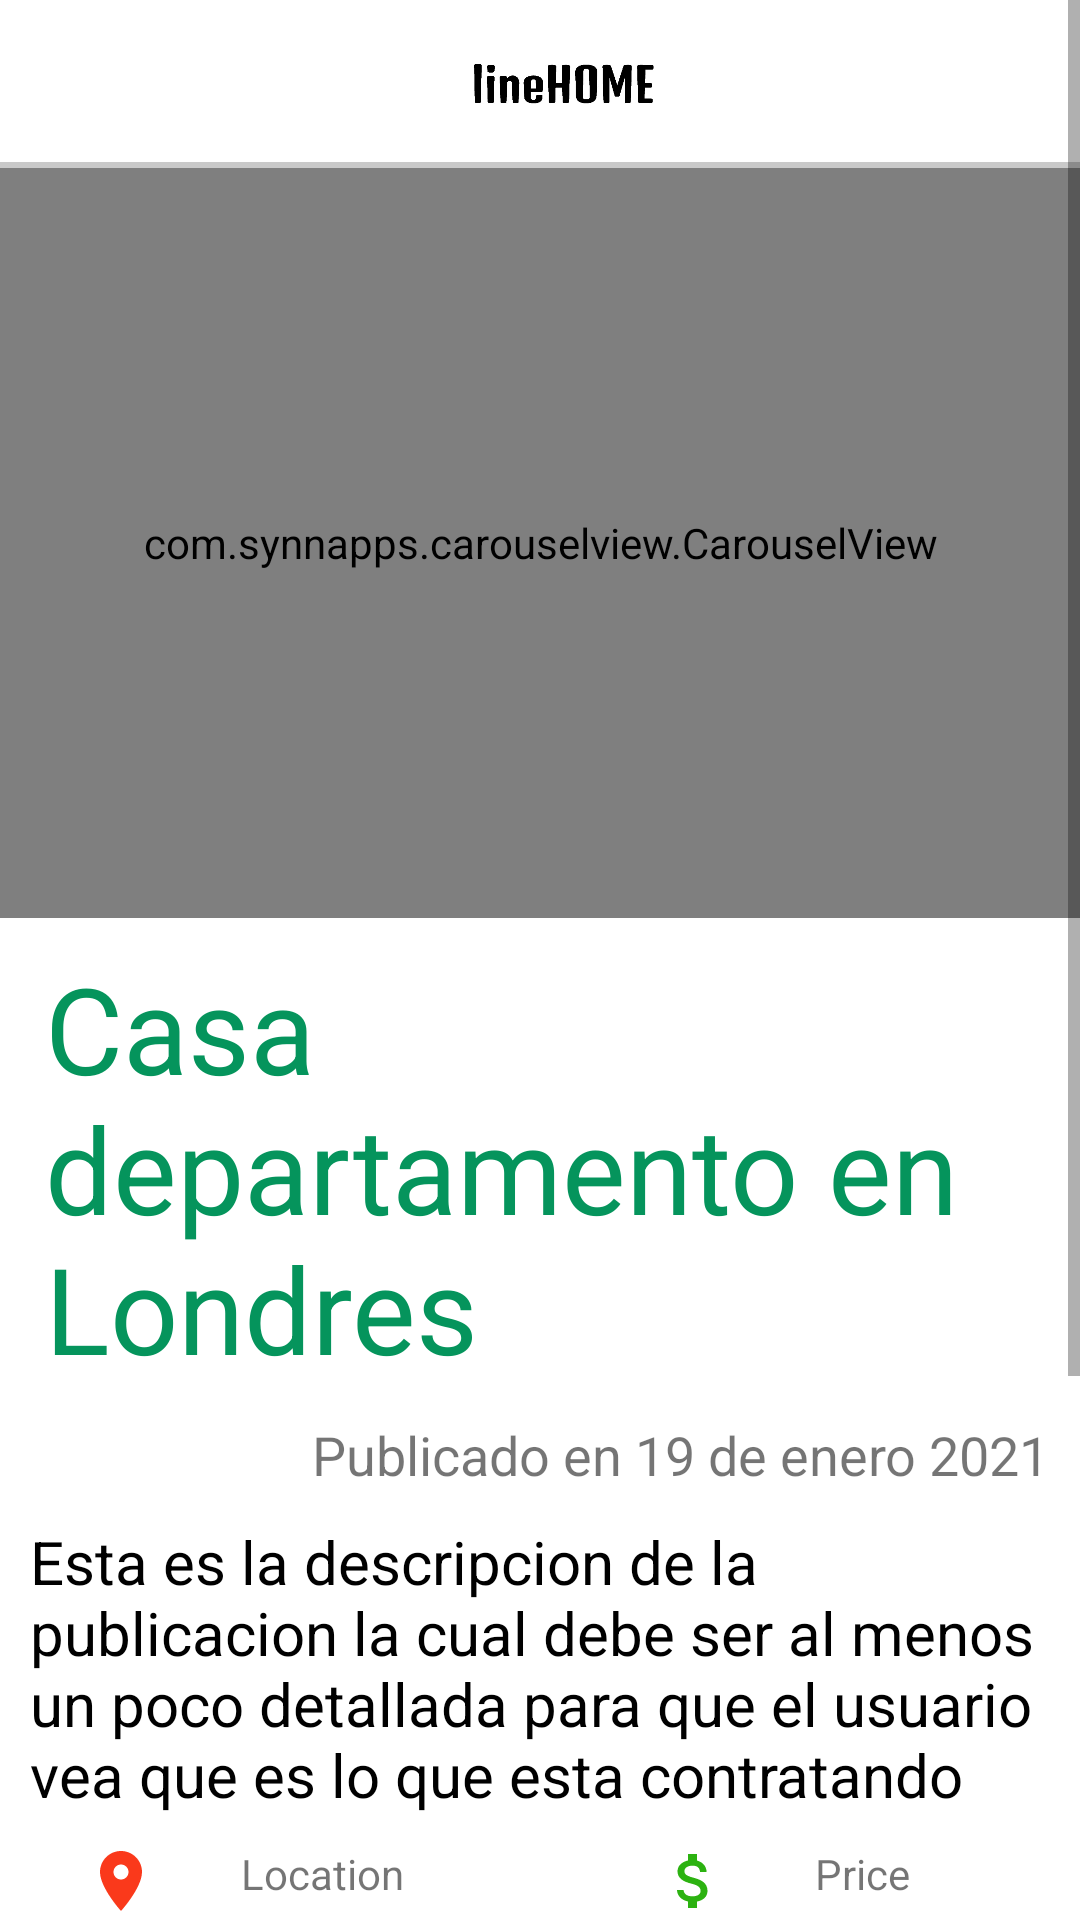

Screen size 1080 × 1920. Icon name, then its box in pixels as [x1, y1, x2, y2]:
attach money: [677, 1854, 708, 1908]
